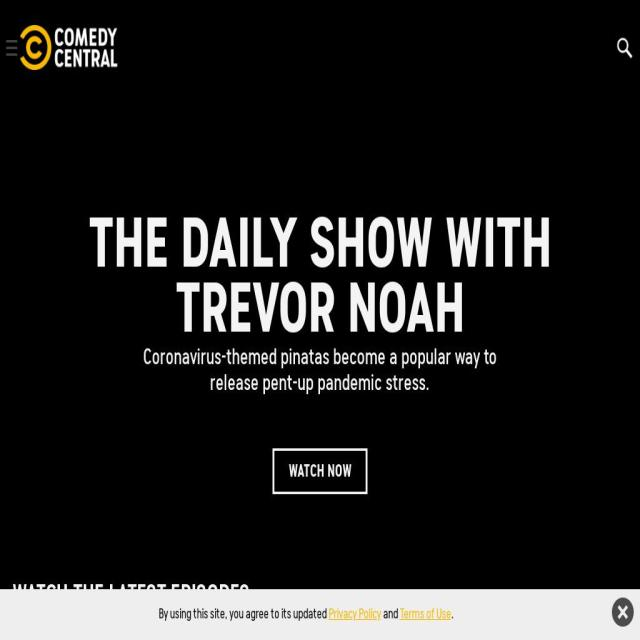button: (272, 448, 368, 494), (184, 624, 369, 640), (0, 624, 184, 640)
heading: (31, 212, 609, 344), (12, 582, 417, 608)
image: (0, 103, 640, 530), (0, 0, 640, 18), (184, 624, 369, 640), (0, 624, 184, 640), (609, 27, 640, 68), (612, 598, 634, 626)
link: (328, 606, 381, 622), (399, 606, 452, 622)
text: (118, 344, 522, 397), (158, 606, 329, 622), (288, 461, 352, 481), (381, 606, 400, 622), (451, 606, 454, 622)
